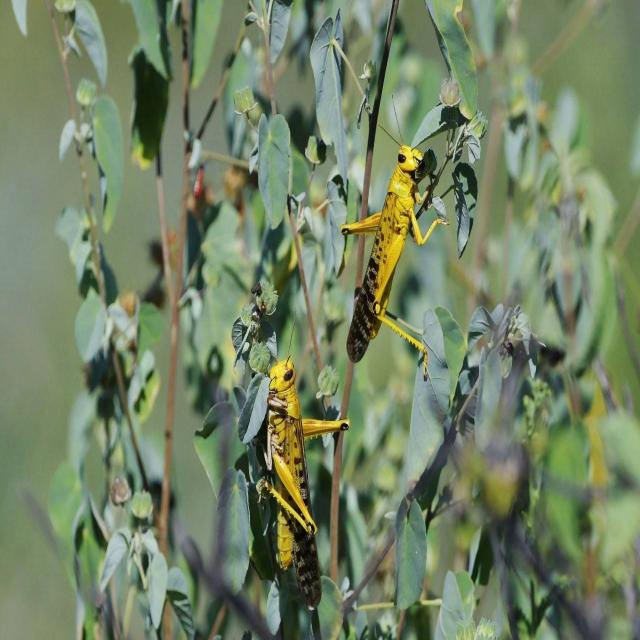ZhaMeng: (247, 354, 344, 615), (342, 124, 434, 378)
